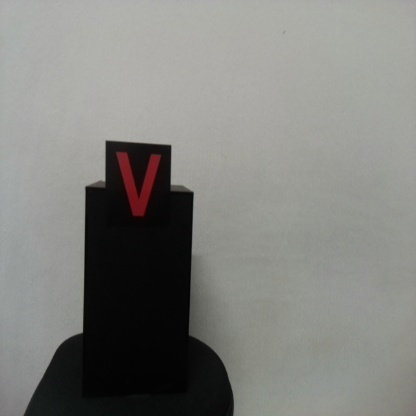id_11: (106, 143, 171, 227)
